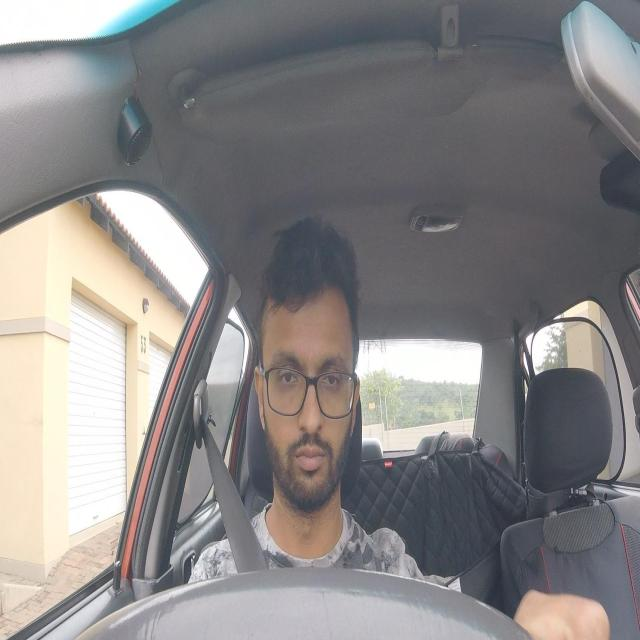open: (269, 343, 306, 398), (314, 350, 350, 398)
